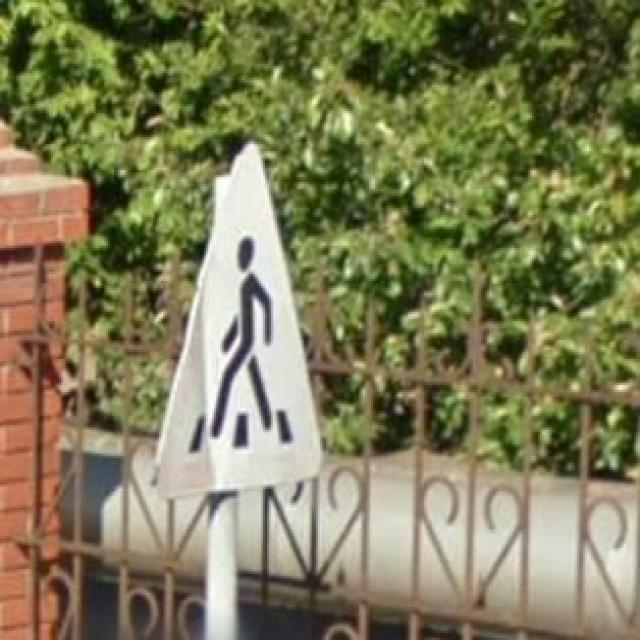Przejscie dla pieszych: (153, 142, 324, 496)
